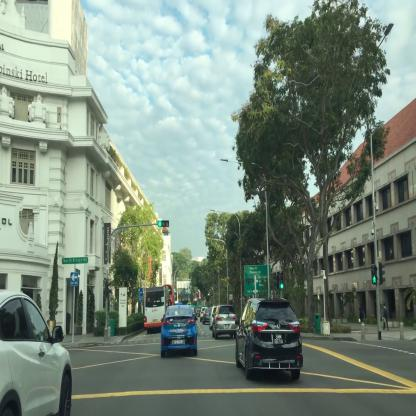green_traffic_light: (158, 220, 169, 226), (280, 273, 283, 288)
